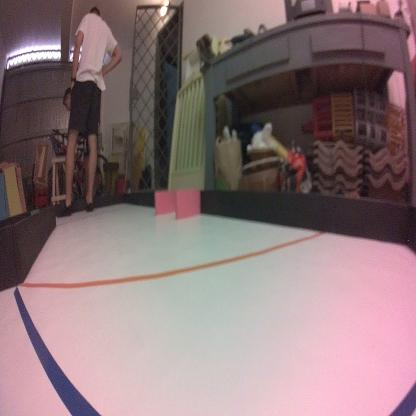magenta: (175, 187, 200, 222), (153, 191, 179, 212)
